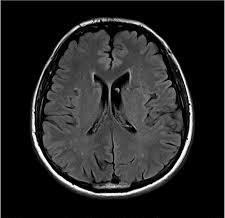Normal_Brain: (23, 11, 208, 201)
